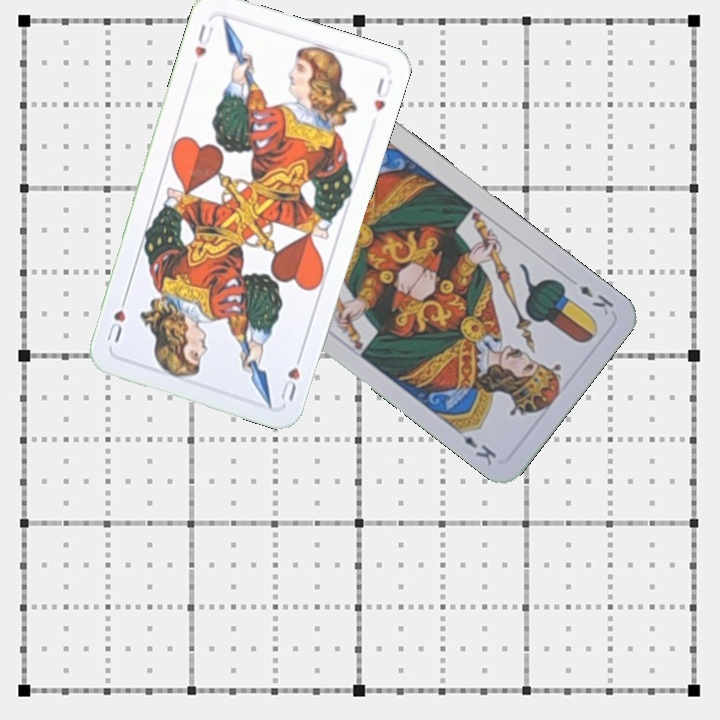EK: (575, 281, 616, 318)
HU: (276, 347, 306, 404), (190, 20, 216, 61)
